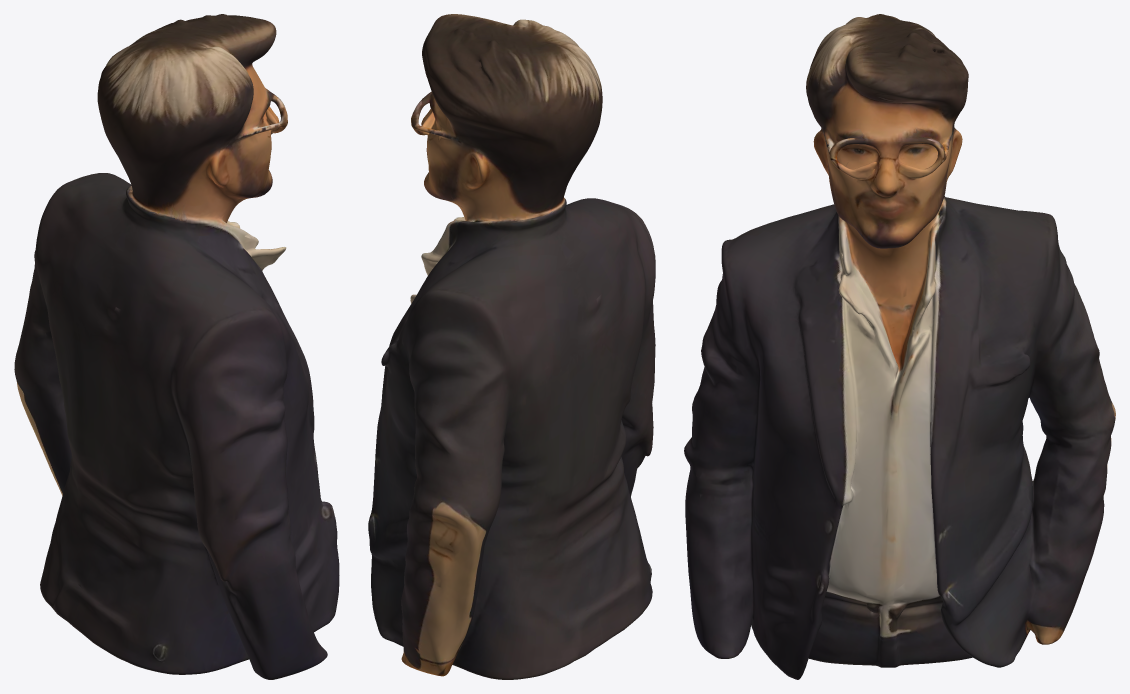
3 views of the same model, side by side, from view 1: azimuth 30°, elevation 25°; view 2: azimuth 150°, elevation 25°; view 3: azimuth 270°, elevation 25° (orthographic). The views are drawn at different scales.
Visible parts, largest first — view 1: tripo_node_2e34a820-83eb-4f85-9e23-5cc933613f4d; view 2: tripo_node_2e34a820-83eb-4f85-9e23-5cc933613f4d; view 3: tripo_node_2e34a820-83eb-4f85-9e23-5cc933613f4d.
Boxes of the visible parts, left/top/right/bottom form: tripo_node_2e34a820-83eb-4f85-9e23-5cc933613f4d: left=14, top=14, right=339, bottom=679; tripo_node_2e34a820-83eb-4f85-9e23-5cc933613f4d: left=368, top=14, right=655, bottom=679; tripo_node_2e34a820-83eb-4f85-9e23-5cc933613f4d: left=684, top=14, right=1115, bottom=679.
Bounding box in the file's own units: 0.3755 × 0.9478 × 0.6174.
Materials: 1 (1 with a texture image).
